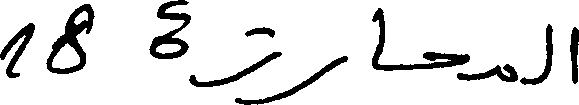1: (0, 20, 34, 78)
8: (45, 2, 94, 74)
ا: (370, 6, 386, 71), (567, 25, 576, 85)
ة: (149, 0, 191, 85)
ح: (422, 49, 470, 81)
ر: (289, 54, 349, 97)
ز: (215, 25, 281, 104)
ل: (543, 21, 551, 81)
م: (495, 61, 518, 82)
